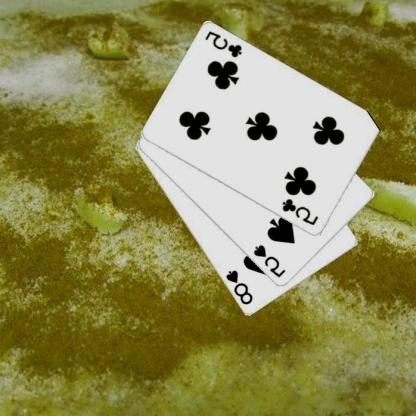5C: (204, 29, 245, 60), (282, 196, 322, 227)
5S: (252, 242, 289, 279)
8S: (224, 268, 256, 306)
